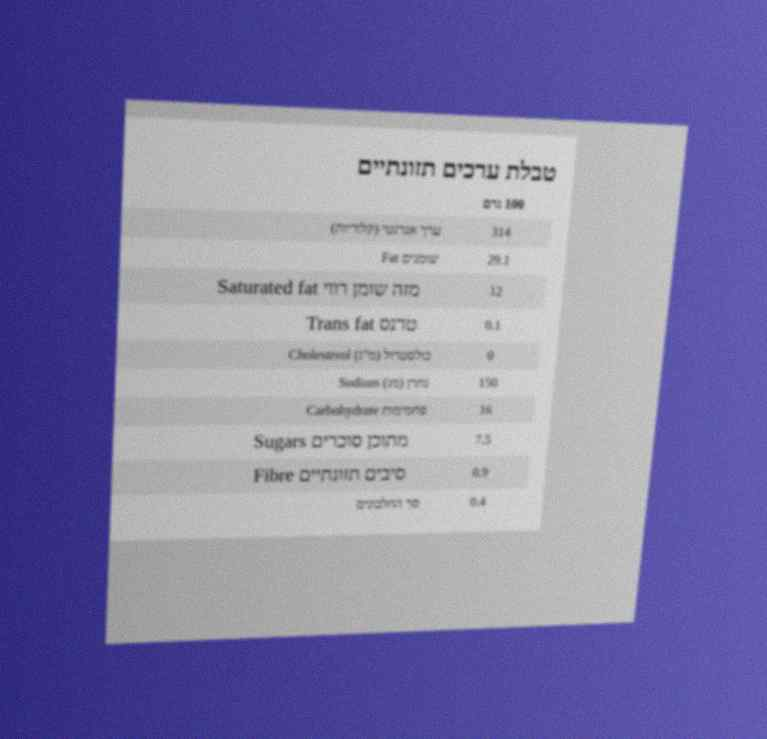carbs: (477, 401, 494, 418)
energy: (489, 223, 513, 241)
fat: (485, 251, 512, 269)
protein: (468, 493, 488, 510)
